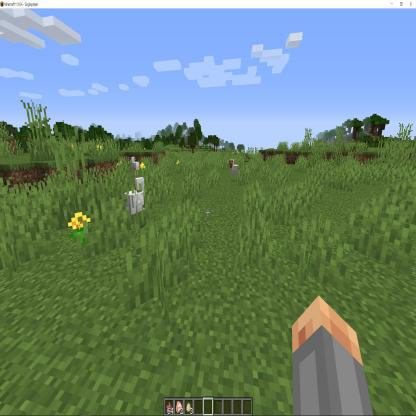minecraft-pigs: (127, 177, 145, 227), (227, 158, 241, 183), (127, 154, 142, 176)
